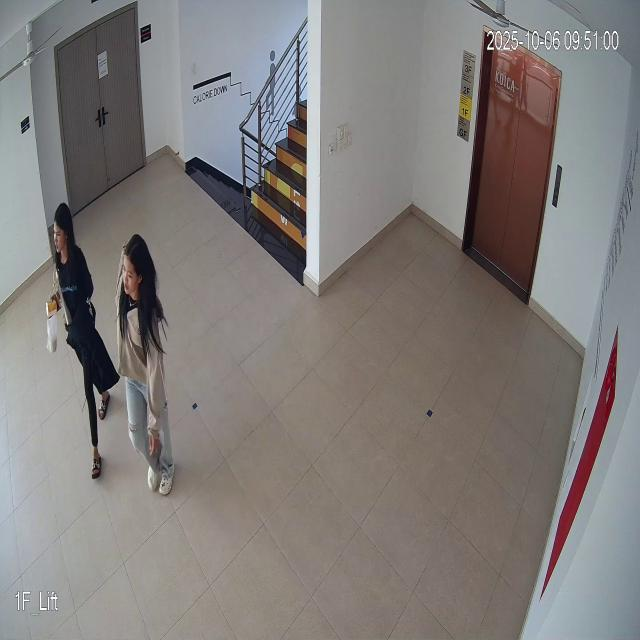face: (117, 235, 161, 303), (46, 197, 80, 254)
